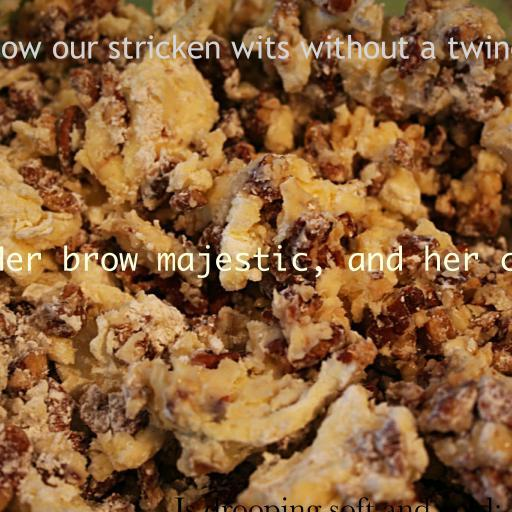Baskerville: (174, 497, 502, 512)
Monaco: (0, 244, 512, 278)
Trebuchet MS: (0, 34, 512, 59)
